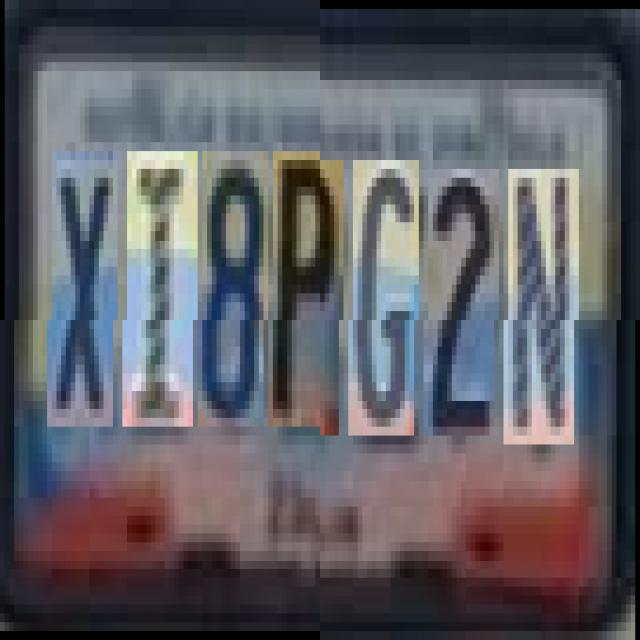2: (428, 168, 499, 436)
8: (202, 160, 268, 436)
G: (353, 160, 419, 436)
I: (127, 160, 198, 436)
N: (508, 168, 579, 444)
P: (272, 160, 344, 436)
X: (51, 160, 118, 436)
